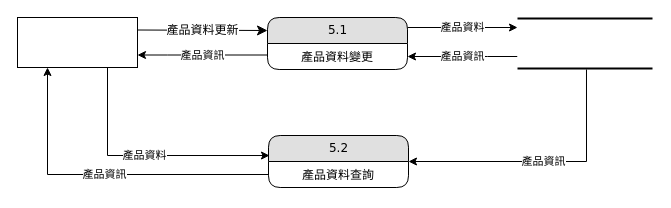
Some shapes in this 671 by 208 pixel diagram are drawn without their labels. Here are the shapes that lost their labels. From the top down, the centre of each, then its label:
At [77,42]: "溫室管理者".
At [584,43]: "產品資料庫".
